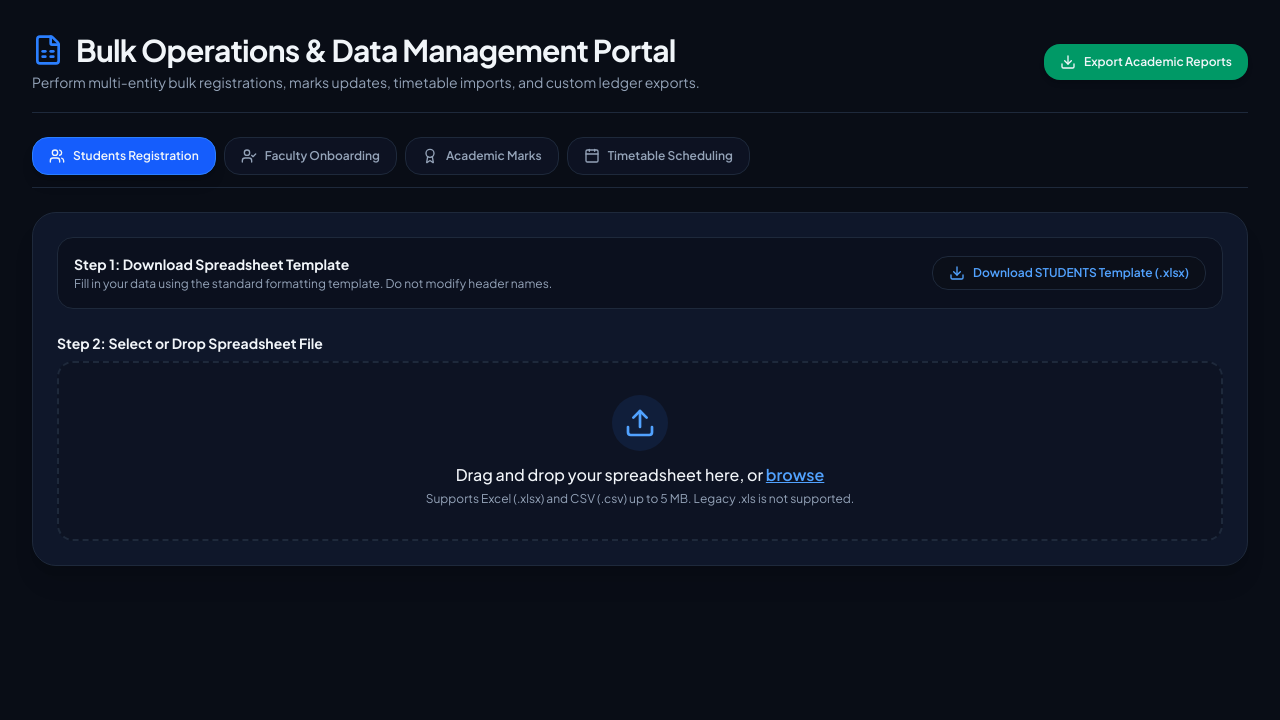
Test case: Phase 8B: Bulk Import/Export Frontend Tests › 1. Route Access Control › Tabs switch correctly
# Click Faculty tab
What coordinates should you click on to do the following:
click the button "Faculty Onboarding"
I would click on:
 (310, 156)
Its box is top-left (224, 137), bottom-right (397, 175).
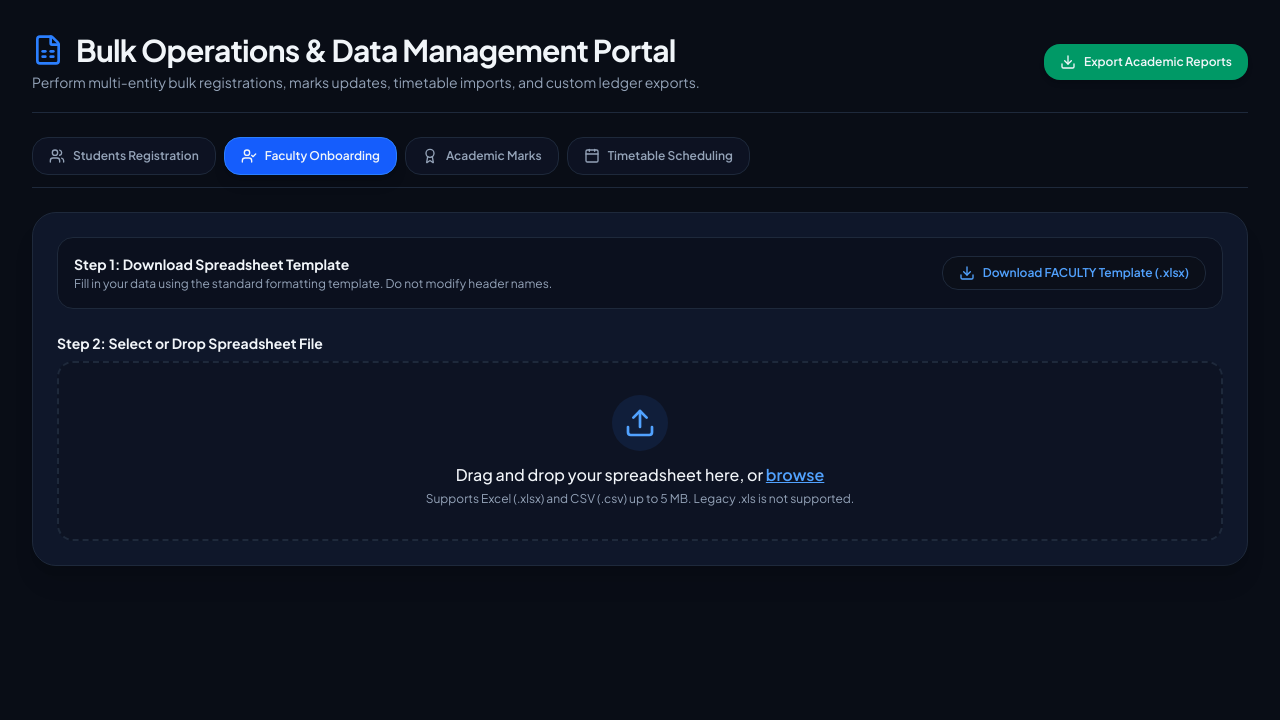
Expected: the text "Download FACULTY Template (.xlsx)" is shown, top-left (983, 265), bottom-right (1189, 281)
# Click Marks tab
What coordinates should you click on to do the following:
click the button "Academic Marks"
I would click on:
 (482, 156)
Its box is top-left (405, 137), bottom-right (559, 175).
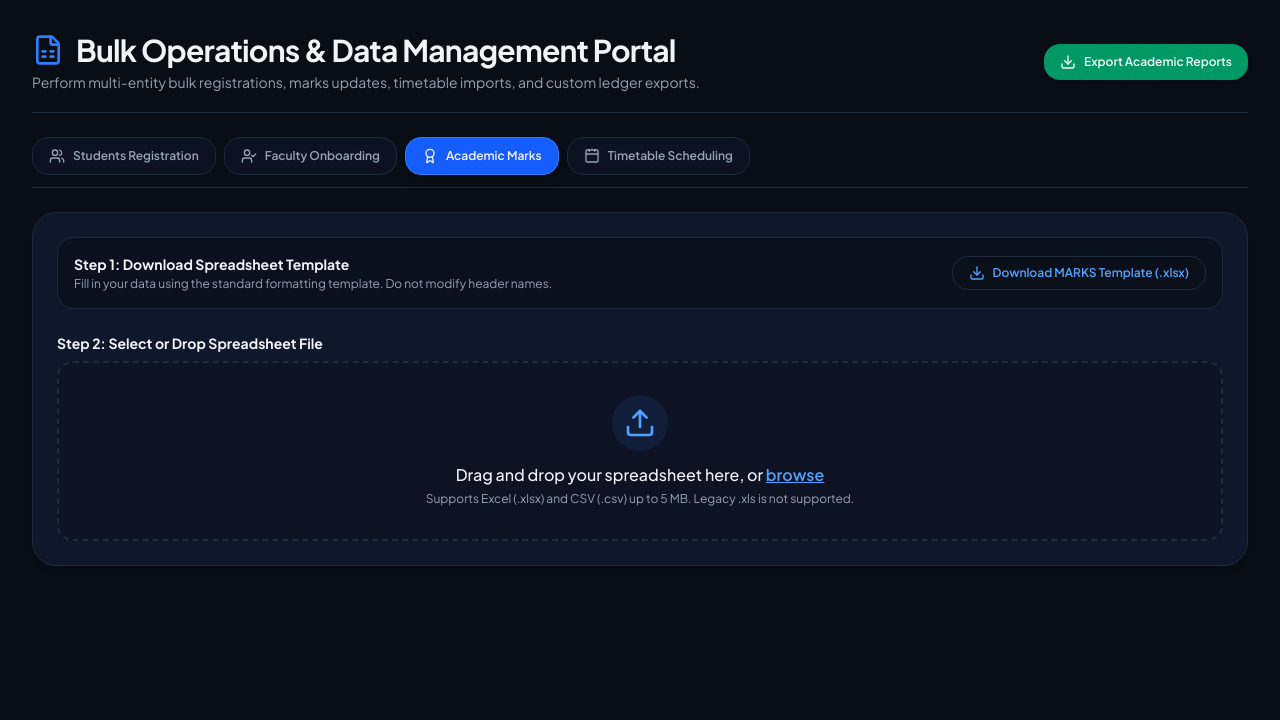
Expected: the text "Download MARKS Template (.xlsx)" is shown, top-left (992, 265), bottom-right (1189, 281)
